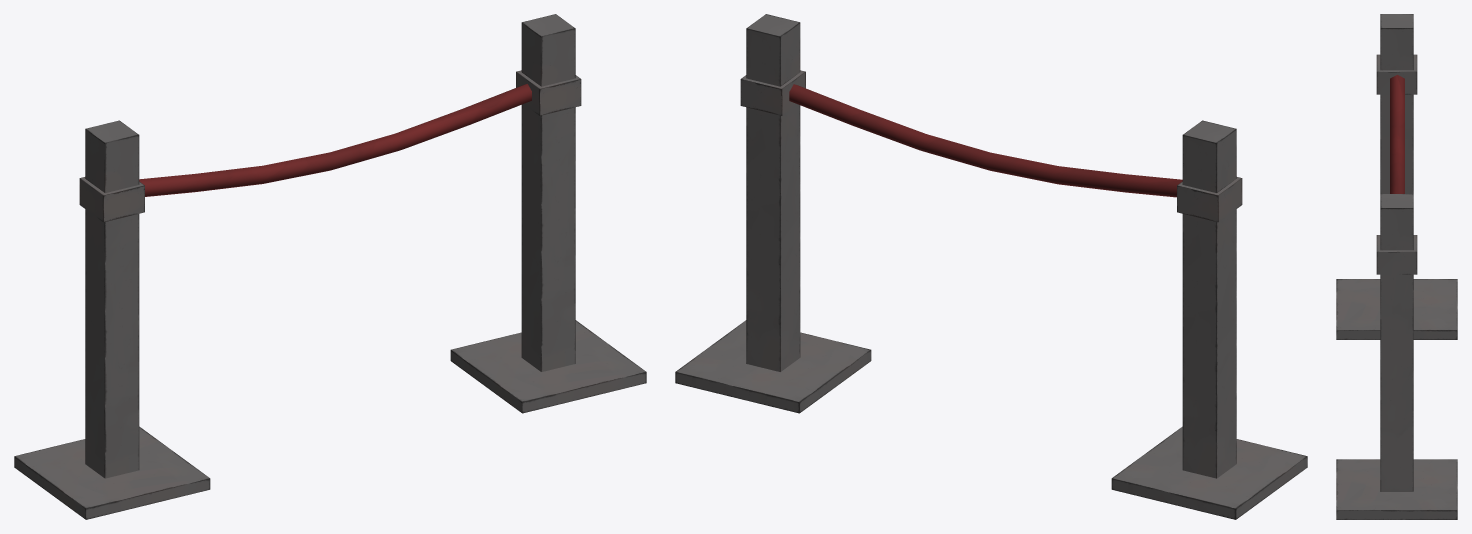
The model's file is Rope_Barrier.fbx.
The picture shows the model from 3 angles, left to right: view 1: azimuth 30°, elevation 25°; view 2: azimuth 150°, elevation 25°; view 3: azimuth 270°, elevation 25°; orthographic projection. The views are drawn at different scales.
Parts seen in each view (by area): view 1: Rope_Barrier1; view 2: Rope_Barrier1; view 3: Rope_Barrier1.
Part boxes in pixels (bbox=[...]): Rope_Barrier1: bbox=[14, 14, 646, 519]; Rope_Barrier1: bbox=[675, 14, 1307, 519]; Rope_Barrier1: bbox=[1336, 14, 1457, 519].
Size of the model in its own units: 199 by 117 by 44.02.
